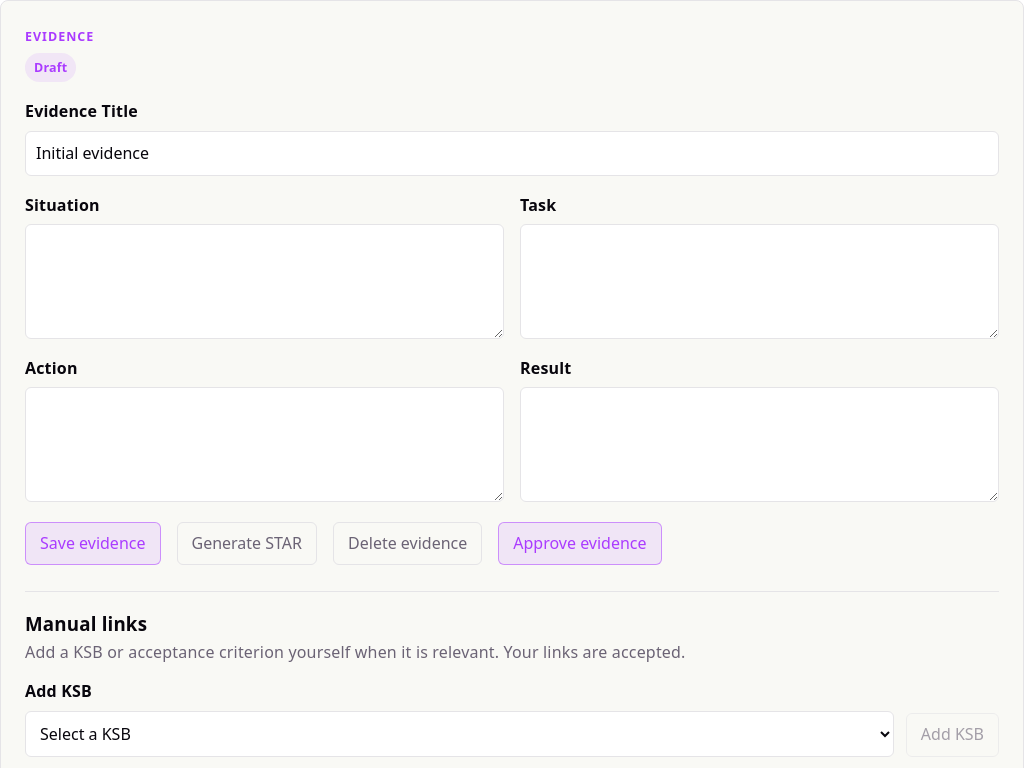
EvidenceEditor › approves evidence after every suggestion has been reviewed
Step 1. Click the button "Approve evidence" → [580, 543], box [498,522,662,565]
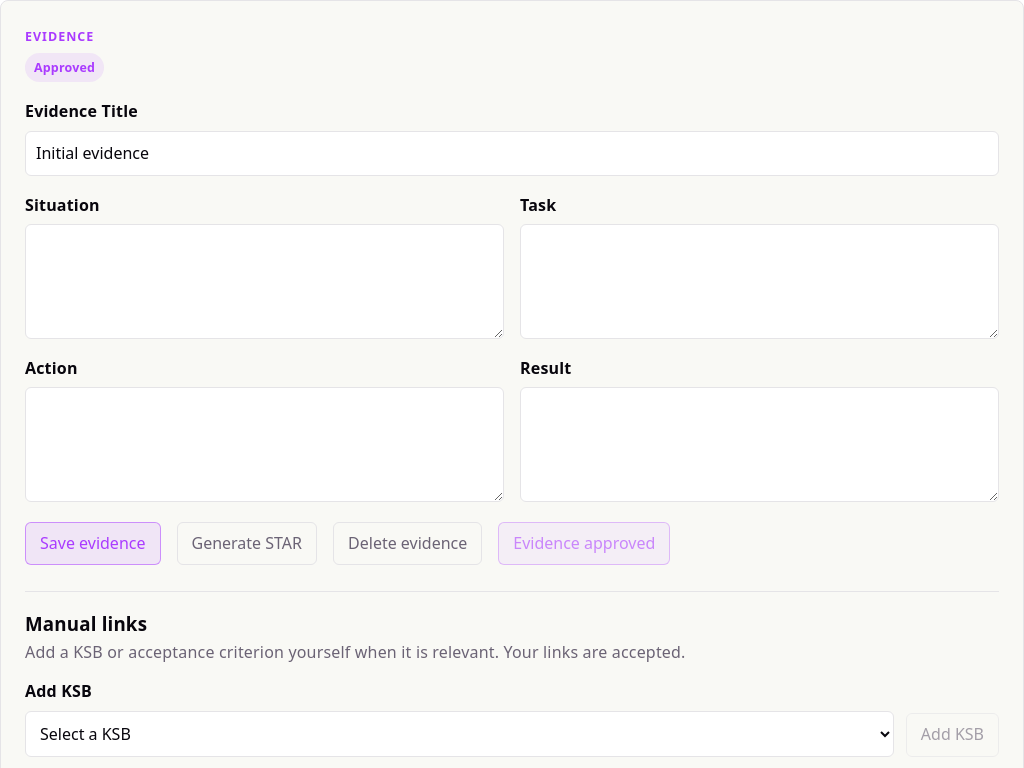
Check: the text "approved" is shown, box [25,53,104,82]
